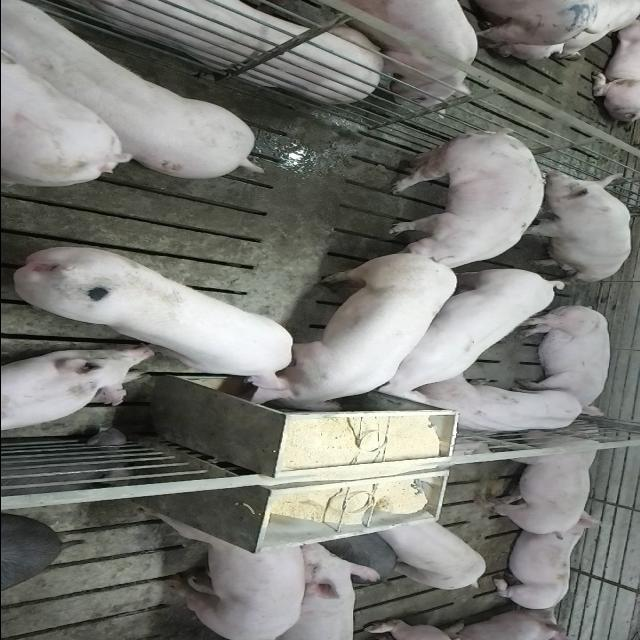Feeding: (12, 243, 298, 398), (258, 258, 466, 420)
Lateral_lying: (30, 0, 388, 101), (512, 302, 612, 418)
Sitting: (514, 168, 632, 284)
Standing: (5, 6, 266, 184), (360, 264, 568, 399), (382, 123, 546, 265), (133, 504, 304, 638), (468, 422, 608, 537), (333, 0, 475, 106), (251, 538, 380, 636), (378, 514, 488, 592)
Sternal_lying: (0, 347, 154, 433), (486, 516, 606, 612), (412, 376, 584, 437), (427, 607, 582, 640)
